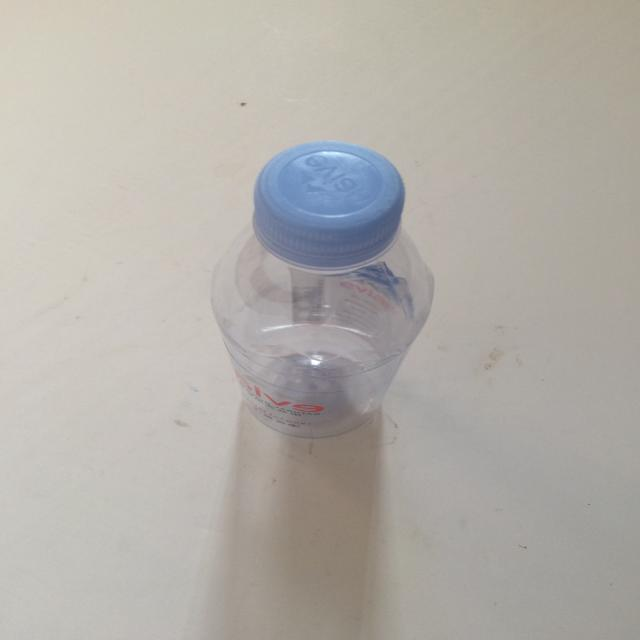plastic: (210, 139, 436, 439)
